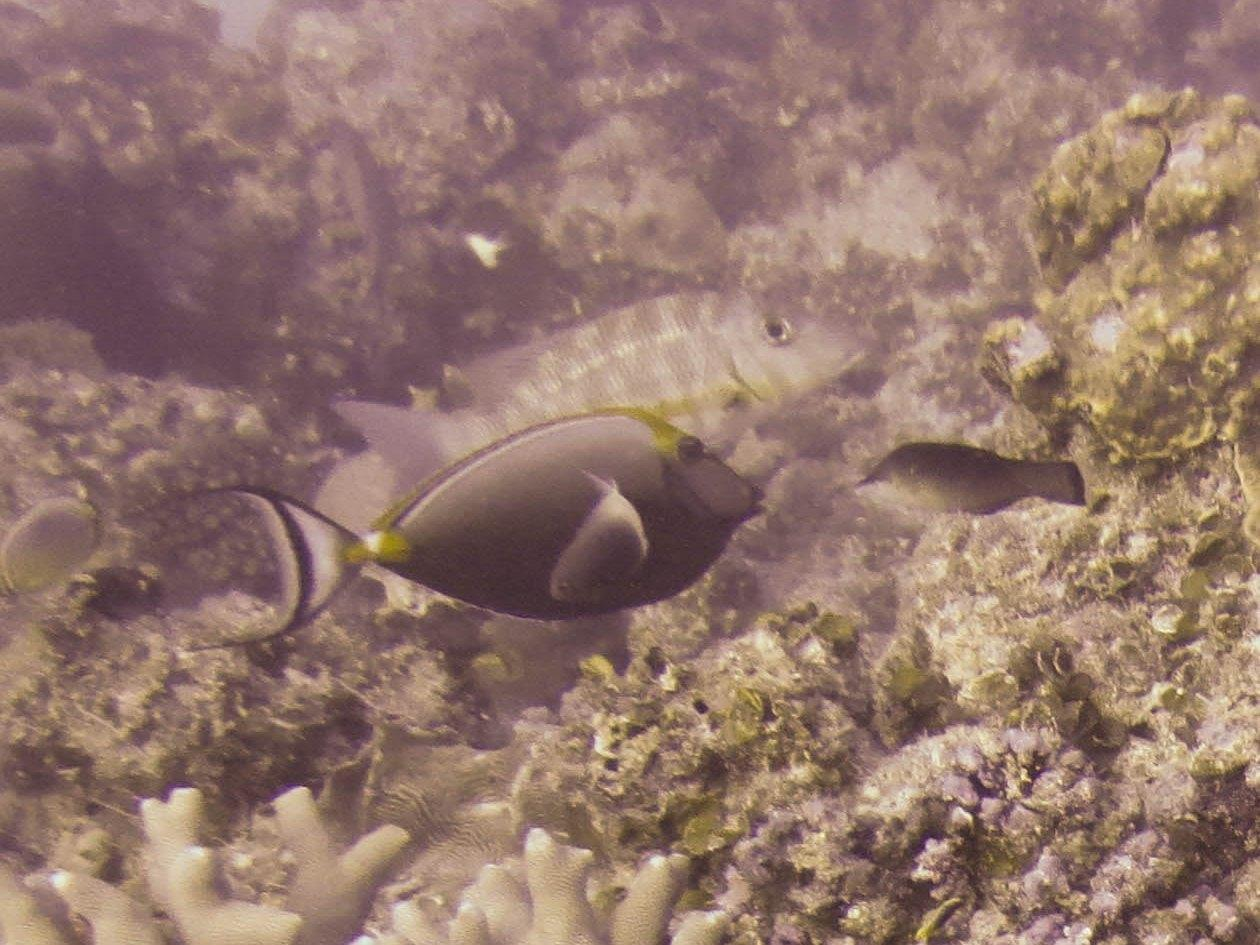Fish: (157, 397, 793, 668)
